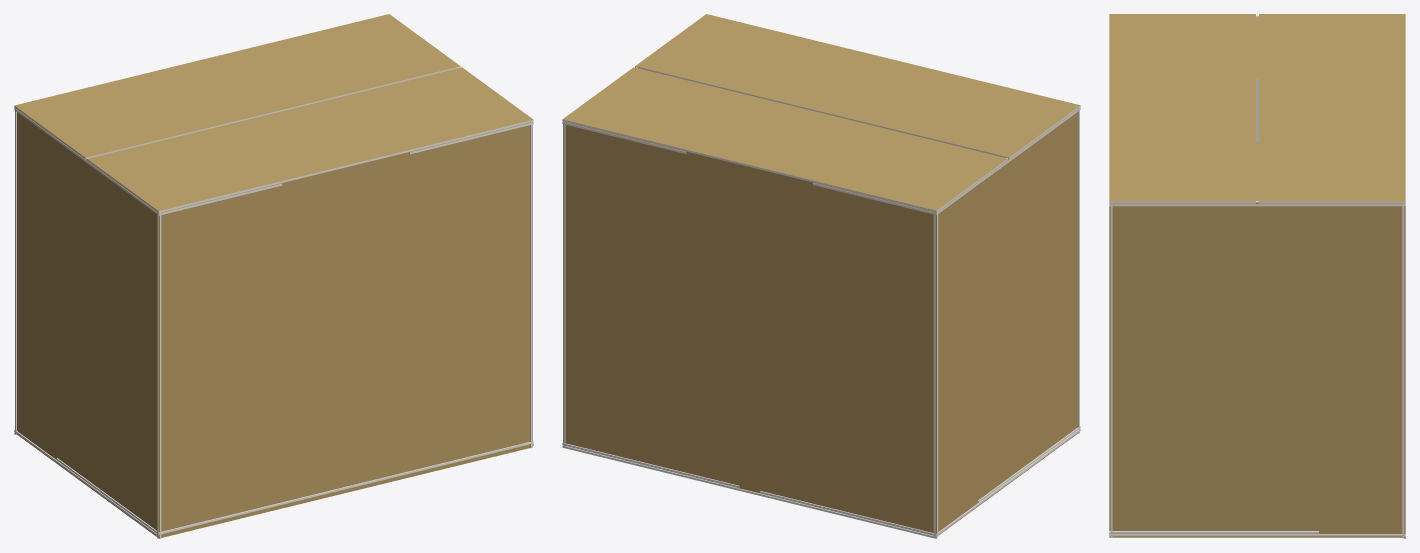
3 renders of one model, left to right at view 1: azimuth 30°, elevation 25°; view 2: azimuth 150°, elevation 25°; view 3: azimuth 270°, elevation 25°, orthographic. The views are drawn at different scales.
Visible parts, largest first — view 1: Packive_Box_fefco0216; view 2: Packive_Box_fefco0216; view 3: Packive_Box_fefco0216.
Part boxes in pixels (<box>): Packive_Box_fefco0216: <box>14,14,533,538</box>; Packive_Box_fefco0216: <box>562,14,1080,538</box>; Packive_Box_fefco0216: <box>1109,14,1405,538</box>.
Bounding box in the file's own units: 0.3 × 0.2515 × 0.2.
26 materials, 13 textured.
